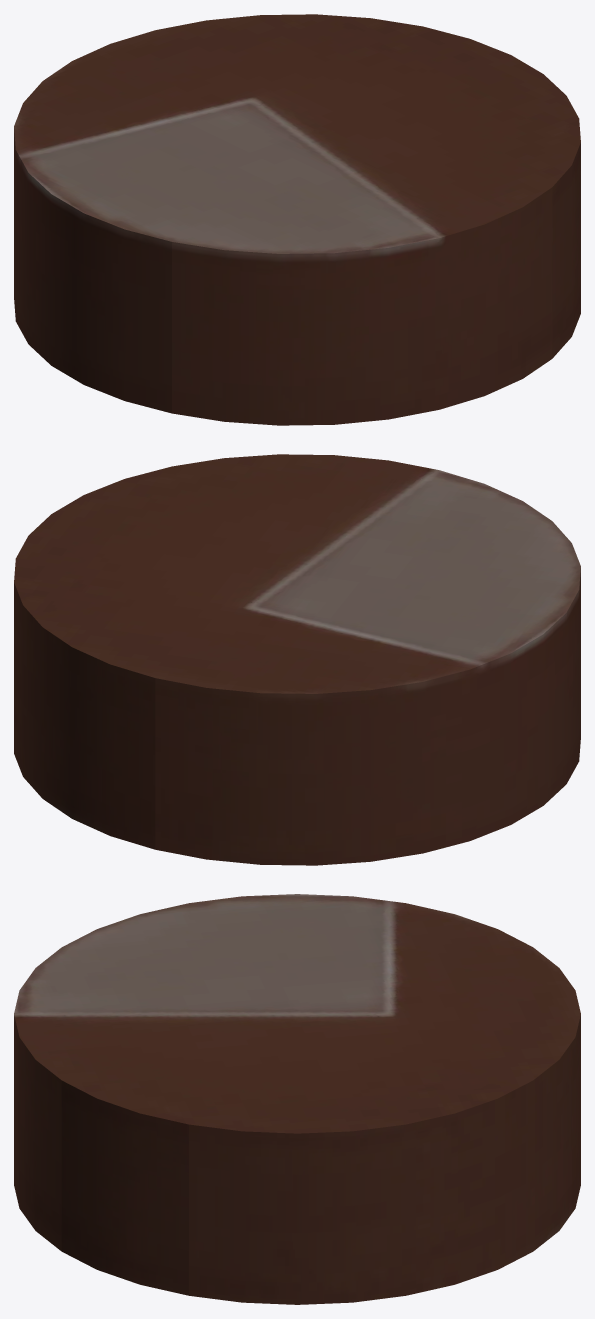
The model's file is front_wheel_1__tire.glb.
3 views of the same model, one above another, from view 1: azimuth 30°, elevation 25°; view 2: azimuth 150°, elevation 25°; view 3: azimuth 270°, elevation 25° (orthographic).
Parts seen in each view (by area): view 1: world; view 2: world; view 3: world.
Boxes of the visible parts, left/top/right/bottom form: world: left=14, top=14, right=580, bottom=425; world: left=14, top=454, right=580, bottom=865; world: left=14, top=894, right=580, bottom=1304.
Size of the model in its own units: 0.12 by 0.04 by 0.12.
1 material, 1 textured.
